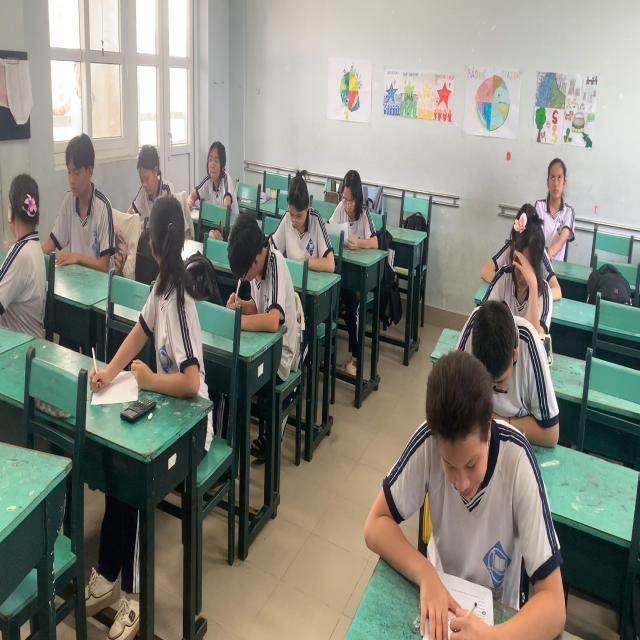cheating: (145, 198, 196, 411), (12, 164, 56, 322)
not_cheating: (406, 352, 516, 538), (228, 194, 296, 344), (67, 126, 126, 286), (449, 294, 542, 379), (496, 213, 556, 323), (274, 164, 326, 258), (134, 132, 187, 216), (537, 151, 581, 239), (335, 160, 364, 259), (205, 134, 231, 218)
